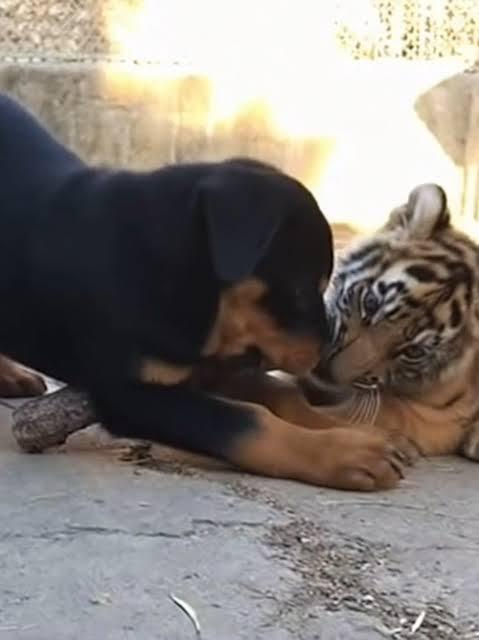adult_dog: (0, 93, 405, 492)
non-dog: (290, 181, 479, 462)
